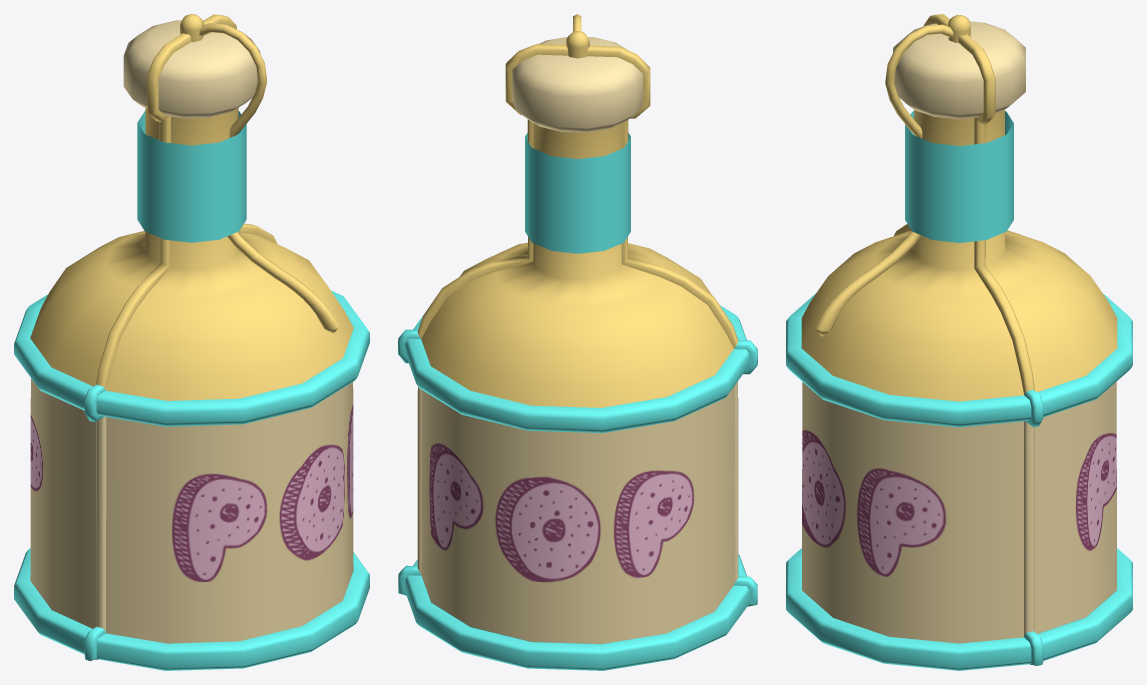
The model's file is PartyPopper_Trial_01.fbx.
3 views of the same model, side by side, from view 1: azimuth 30°, elevation 25°; view 2: azimuth 150°, elevation 25°; view 3: azimuth 270°, elevation 25° (orthographic). The views are drawn at different scales.
Visible parts, largest first — view 1: polySurface172; view 2: polySurface172; view 3: polySurface172.
Part boxes in pixels (x1=…): polySurface172: x1=14, y1=14, x2=369, y2=670; polySurface172: x1=398, y1=14, x2=757, y2=670; polySurface172: x1=786, y1=14, x2=1132, y2=670.
Size of the model in its own units: 29.11 by 52.49 by 28.38.
1 material, 1 textured.
